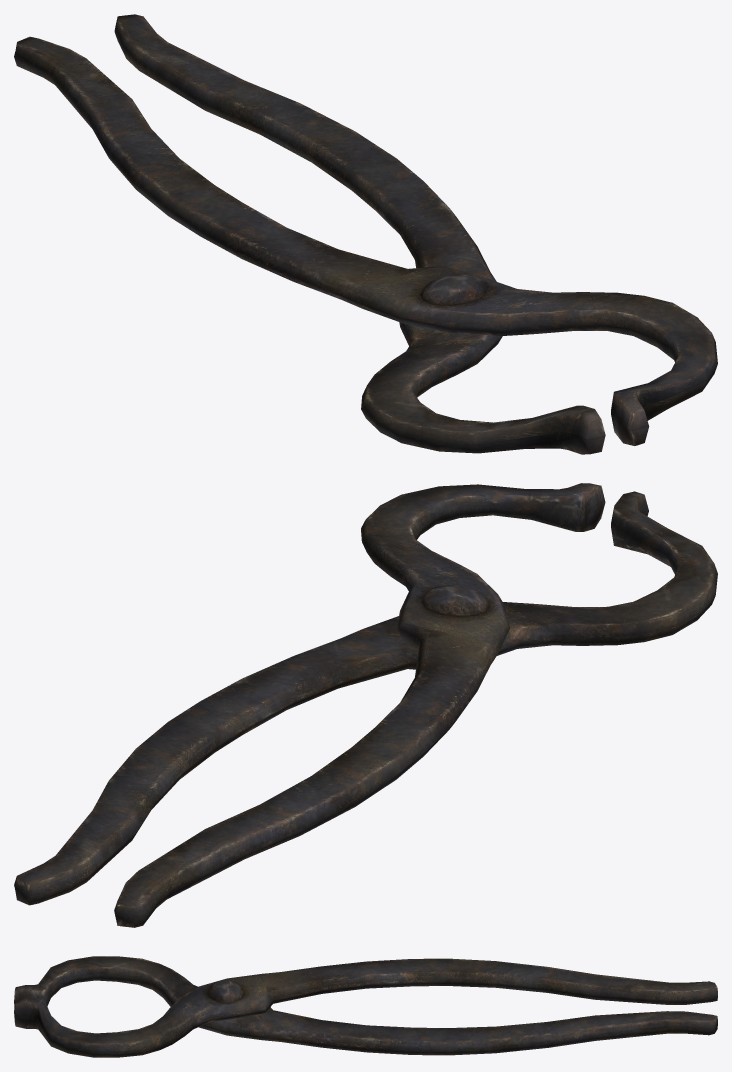
The model's file is blacksmith_tool_exp6.FBX.
3 renders of one model, top to bottom at view 1: azimuth 30°, elevation 25°; view 2: azimuth 150°, elevation 25°; view 3: azimuth 270°, elevation 25°, orthographic. The views are drawn at different scales.
Visible parts, largest first — view 1: blacksmith_tool_exp6; view 2: blacksmith_tool_exp6; view 3: blacksmith_tool_exp6.
Boxes of the visible parts, x1,y1,x2,y2 form: blacksmith_tool_exp6: (14, 14, 717, 454); blacksmith_tool_exp6: (14, 483, 717, 927); blacksmith_tool_exp6: (14, 956, 717, 1057).
Bounding box in the file's own units: 12.54 × 2.6 × 36.39.
